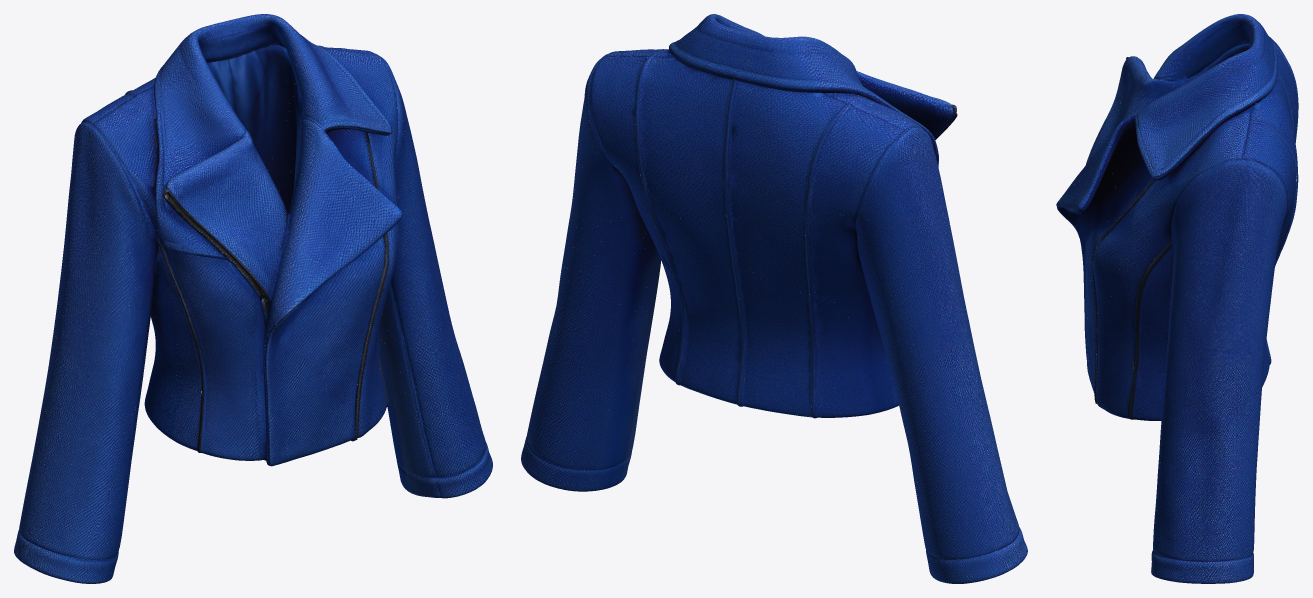
The model's file is blue_moto_jacket.glb.
The picture shows the model from 3 angles, left to right: view 1: azimuth 30°, elevation 25°; view 2: azimuth 150°, elevation 25°; view 3: azimuth 270°, elevation 25°; orthographic projection. The views are drawn at different scales.
Visible parts, largest first — view 1: blue_moto_jacket; view 2: blue_moto_jacket; view 3: blue_moto_jacket.
Boxes of the visible parts, x1=… form: blue_moto_jacket: x1=14, y1=14, x2=492, y2=583; blue_moto_jacket: x1=521, y1=14, x2=1027, y2=583; blue_moto_jacket: x1=1056, y1=14, x2=1298, y2=583.
Bounding box in the file's own units: 0.6169 × 0.62 × 0.295.
1 material, 1 textured.
